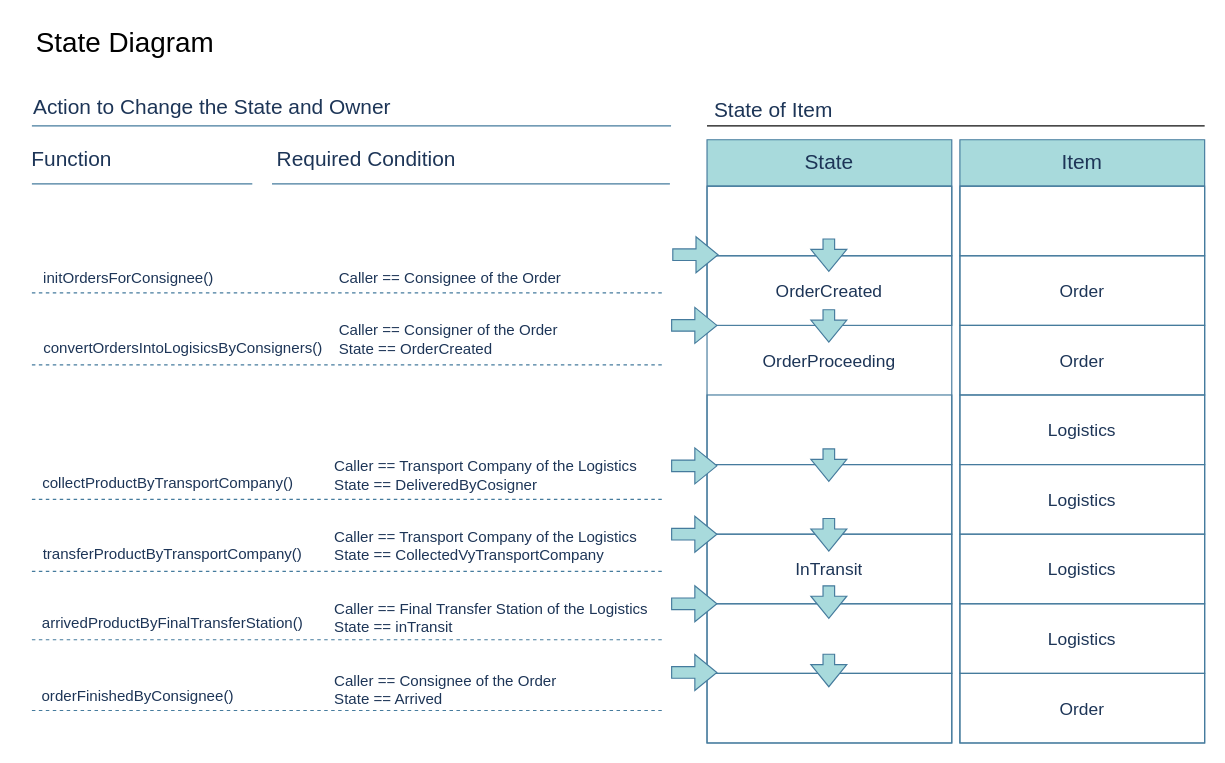
The diagram is 1225 pixels wide and 763 high, and some of its shapes have lost their labels. The centre of each missing label's shape, as x and y in pixels:
"(Order not Created)" belongs at point 829,220.
"Arrived" belongs at point 829,638.
"Collected ByTransportCompany" belongs at point 829,498.
"DeliveredByCosigner" belongs at point 829,429.
"OrderFinished" belongs at point 829,707.
